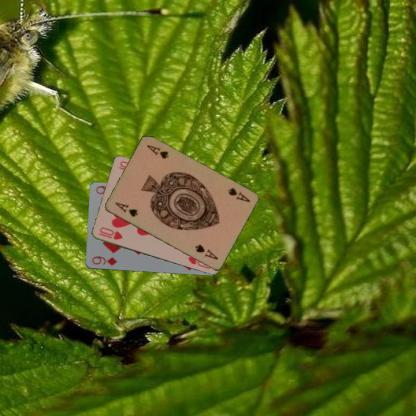10h: (96, 224, 124, 242)
9d: (89, 254, 118, 267)
As: (112, 200, 139, 218), (226, 185, 252, 203)
